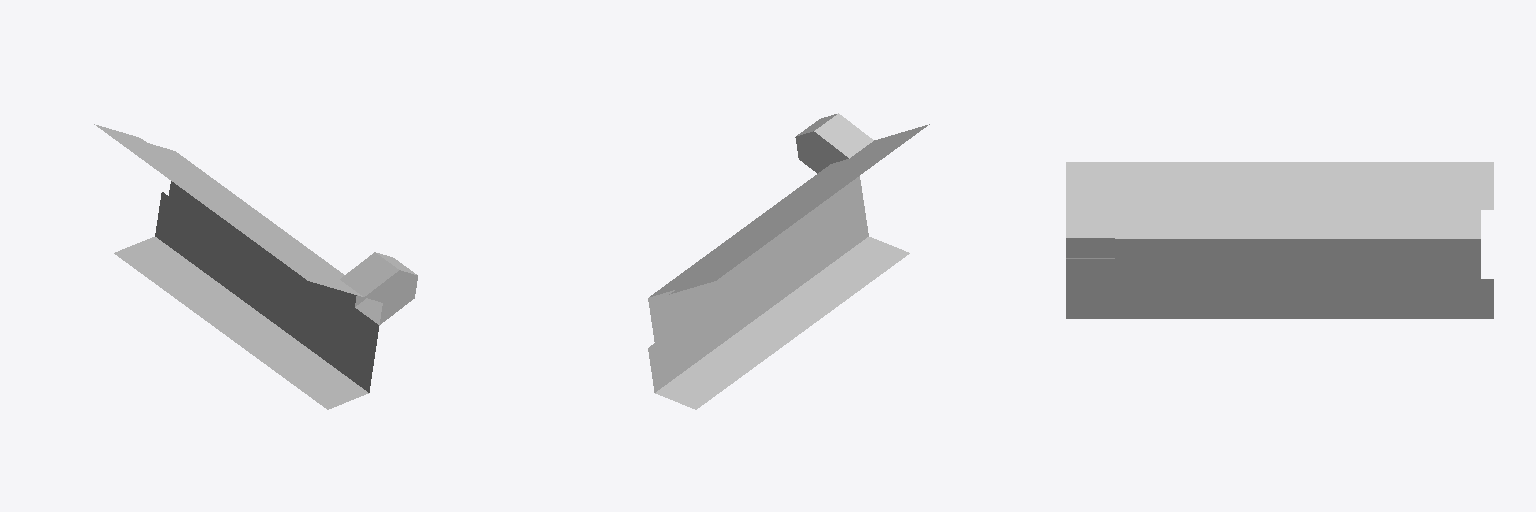
Rendered from gunRight.obj.
3 renders of one model, left to right at view 1: azimuth 30°, elevation 25°; view 2: azimuth 150°, elevation 25°; view 3: azimuth 270°, elevation 25°, orthographic.
Visible parts, largest first — view 1: Cylinder; view 2: Cylinder; view 3: Cylinder.
Part boxes in pixels (x1,y1,x2,y2): Cylinder: (94, 124, 417, 409); Cylinder: (648, 113, 929, 409); Cylinder: (1066, 162, 1493, 318).
Bounding box in the file's own units: 12.01 × 13.94 × 40.43.